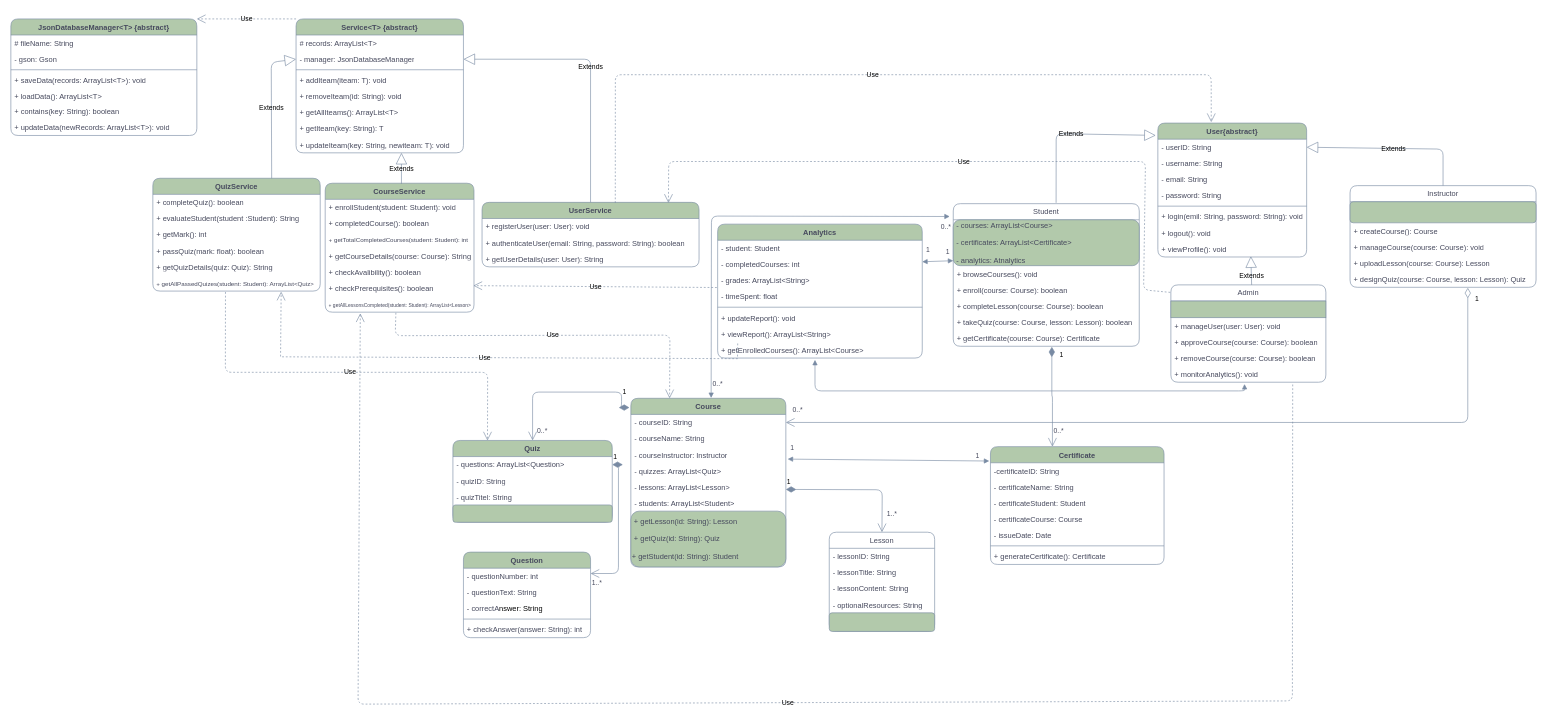
Some shapes in this 1547 by 724 pixel diagram are drawn without their labels. The shapes that lost their labels are listed below. From the top down, each one's centre as x and y in pixels, then its label:
At [1442,212]: "- createdCourses: Arraylist<Courses> - courseService: CourseService".
At [1248,309]: "- courseService: CourseService".
At [532,513]: "+ getQuestion(questionNumber: int): Question".
At [882,621]: "+ completeLesson(): boolean".
